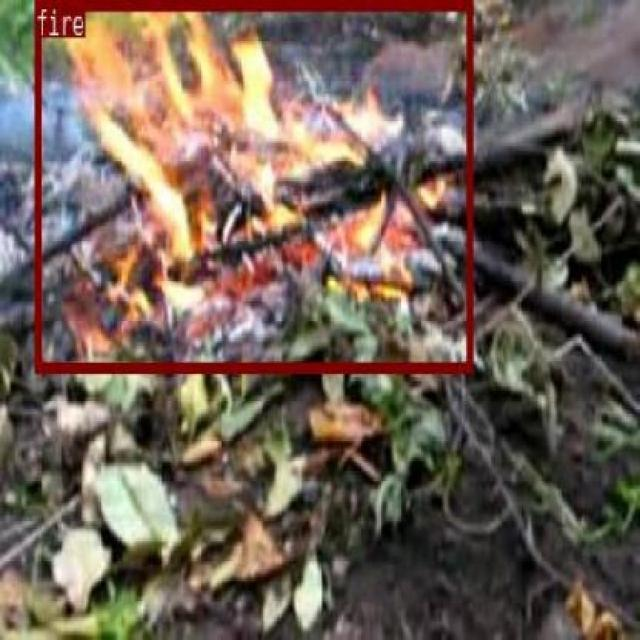Fire: (33, 0, 471, 372)
